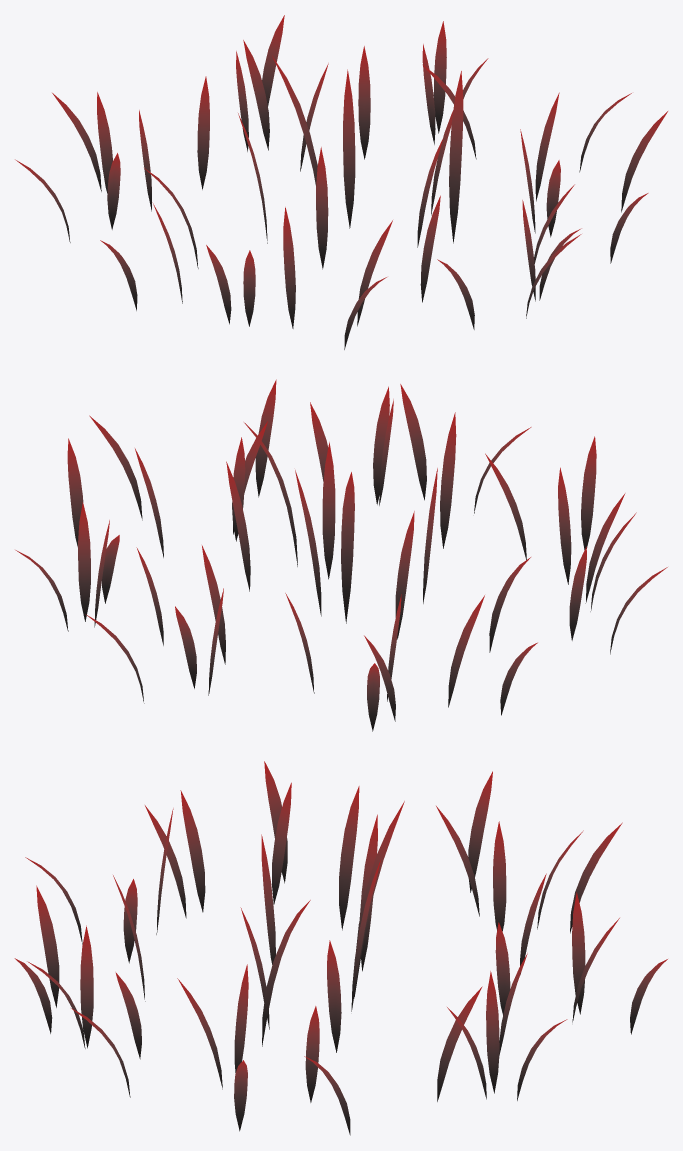
File: grass 1.fbx
3 views of the same model, one above another, from view 1: azimuth 30°, elevation 25°; view 2: azimuth 150°, elevation 25°; view 3: azimuth 270°, elevation 25° (orthographic). The views are drawn at different scales.
Parts seen in each view (by area): view 1: grass; view 2: grass; view 3: grass.
Boxes of the visible parts, left/top/right/bottom form: grass: left=15, top=15, right=667, bottom=349; grass: left=15, top=379, right=667, bottom=731; grass: left=14, top=761, right=667, bottom=1135.
Bounding box in the file's own units: 6.57 × 1.9 × 6.07.
